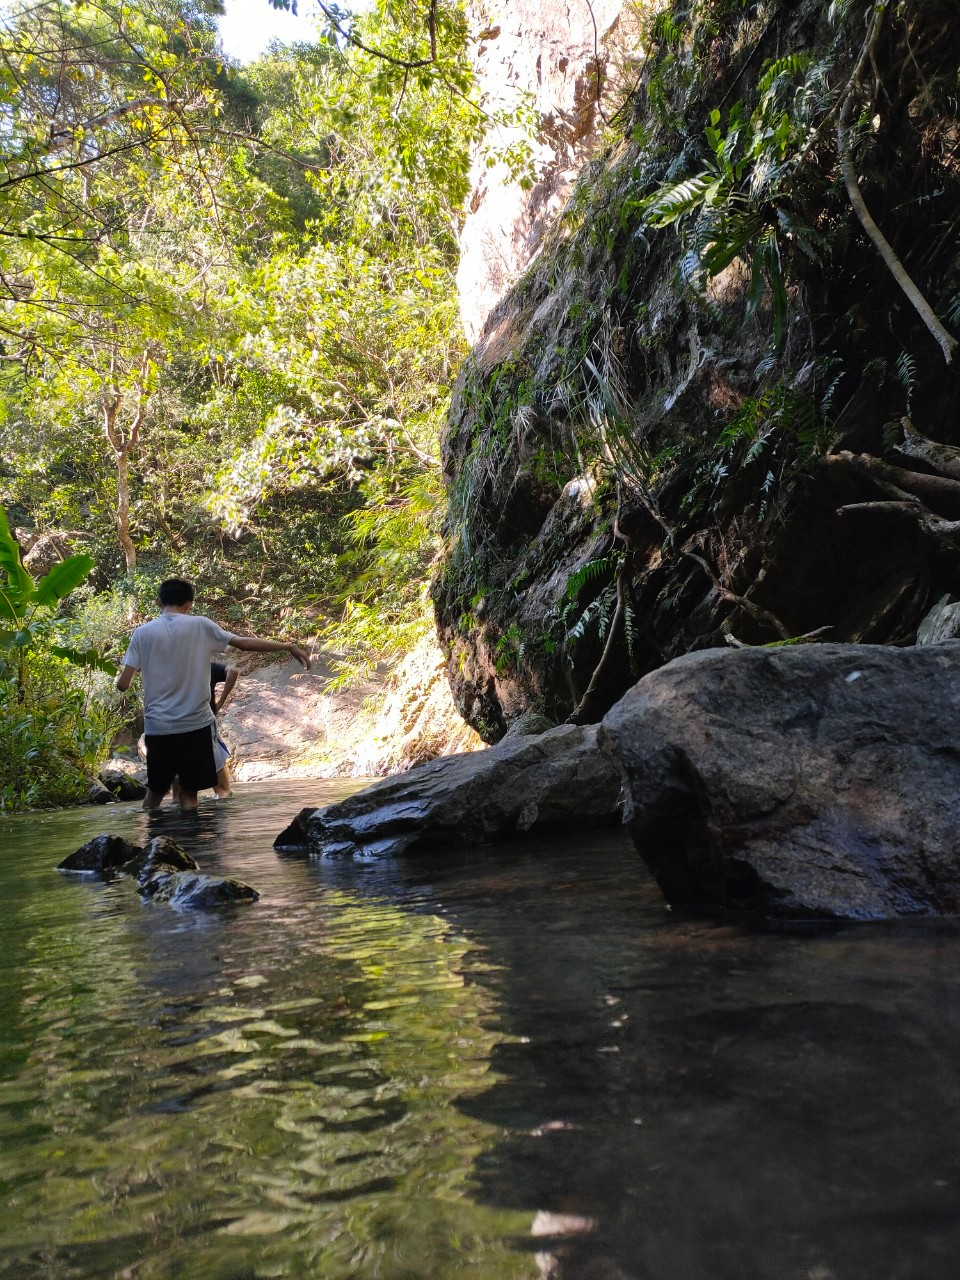people: (132, 570, 223, 821)
